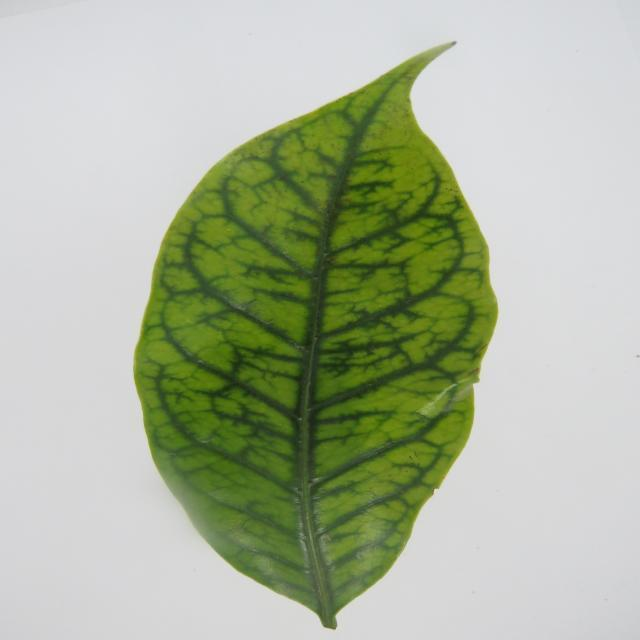DeficienciaNutricional-Magnesio: (135, 44, 497, 628)
